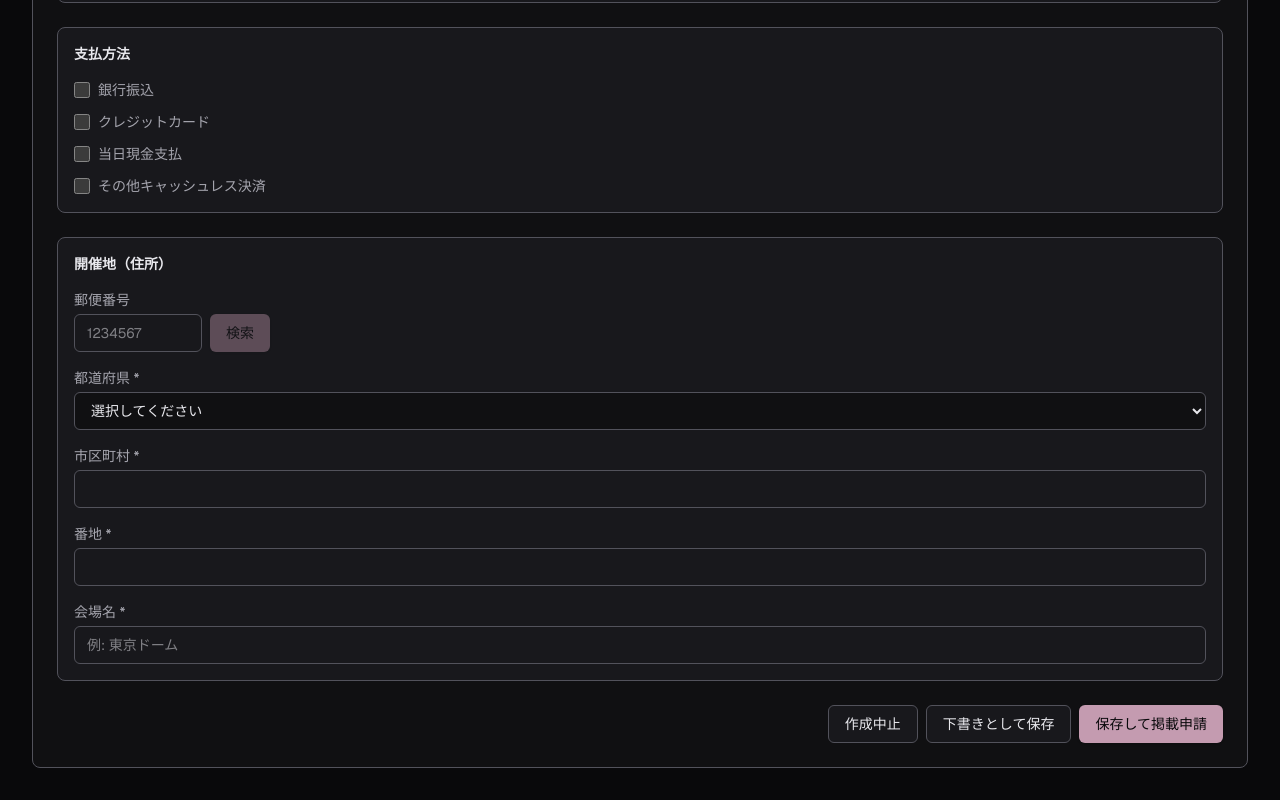
Test case: AdminNewEventPage › 作成中止ボタンをクリックすると、確認モーダルを表示する
(page scrolled)
Click the button "作成中止" at [873, 724], box [828,704,918,742]
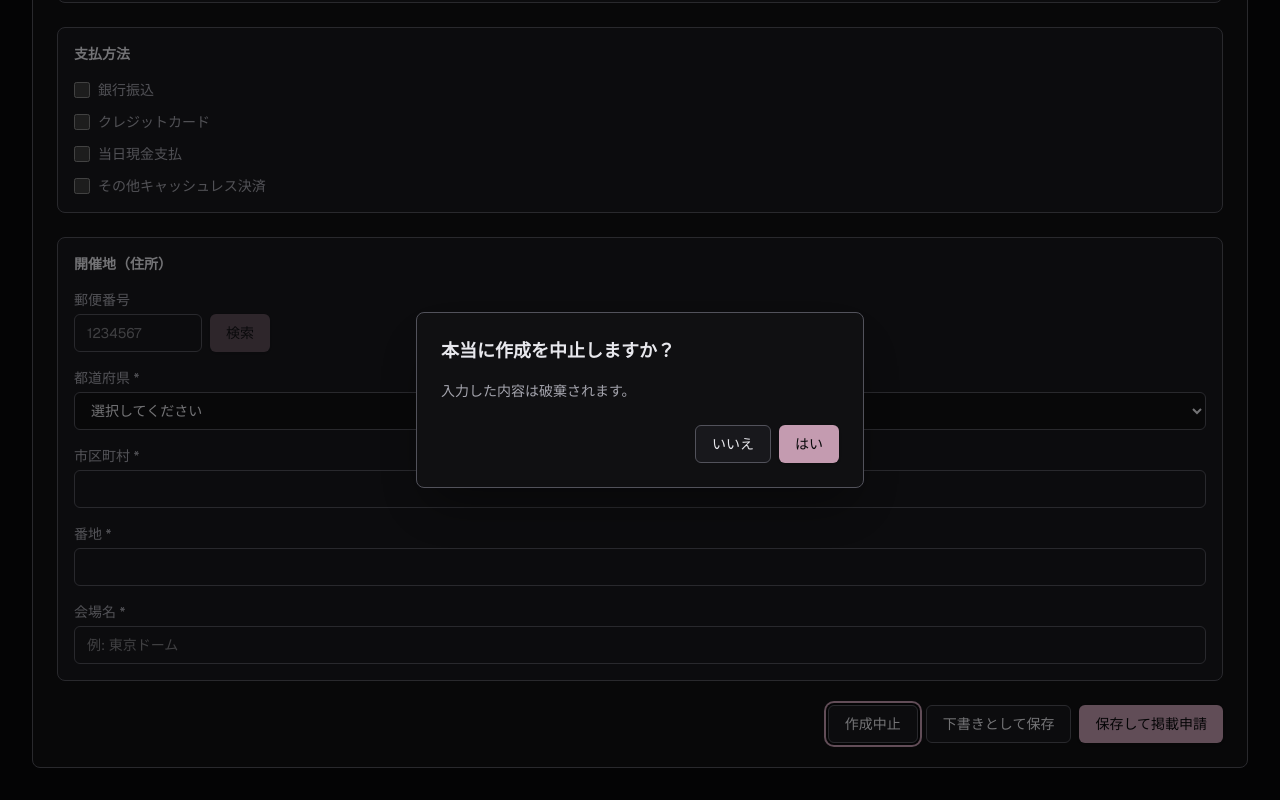
Expected: the text "本当に作成を中止しますか？" is shown, [441,339,675,362]
